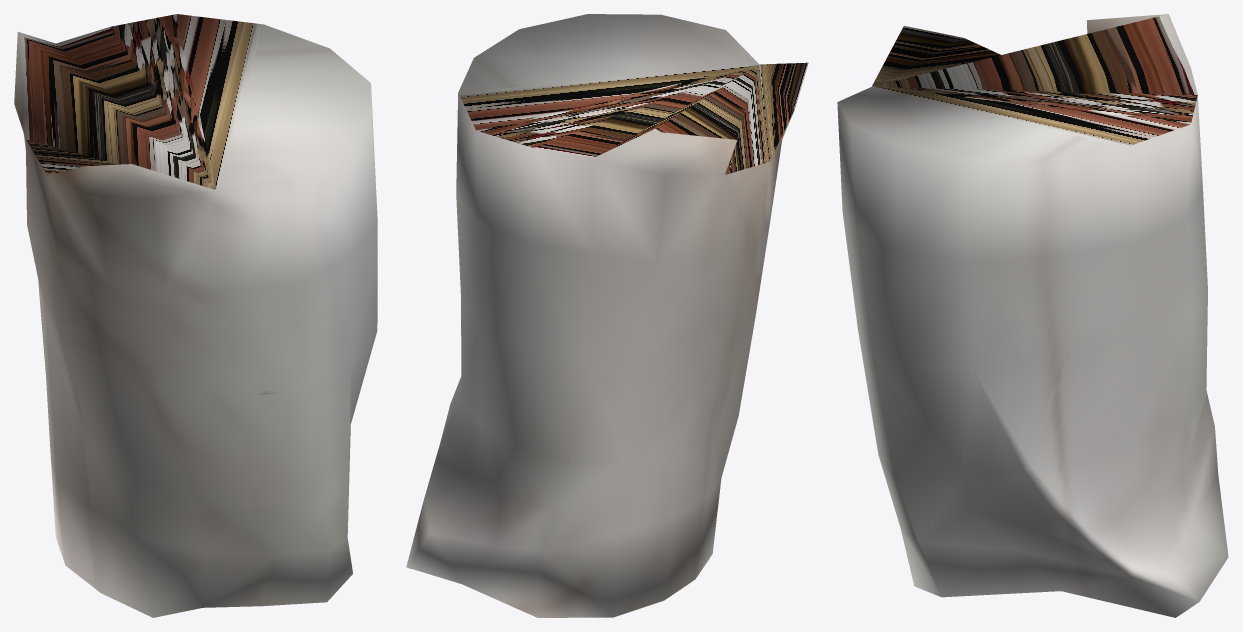
Rendered from musloIzq.obj.
3 renders of one model, left to right at view 1: azimuth 30°, elevation 25°; view 2: azimuth 150°, elevation 25°; view 3: azimuth 270°, elevation 25°, orthographic. The views are drawn at different scales.
Visible parts, largest first — view 1: musloIzq; view 2: musloIzq; view 3: musloIzq.
Part boxes in pixels (x1,y1,x2,y2): musloIzq: (14,14,377,617); musloIzq: (406,14,808,617); musloIzq: (837,14,1228,617).
Bounding box in the file's own units: 0.0977 × 0.1567 × 0.1118.
1 material, 1 textured.
